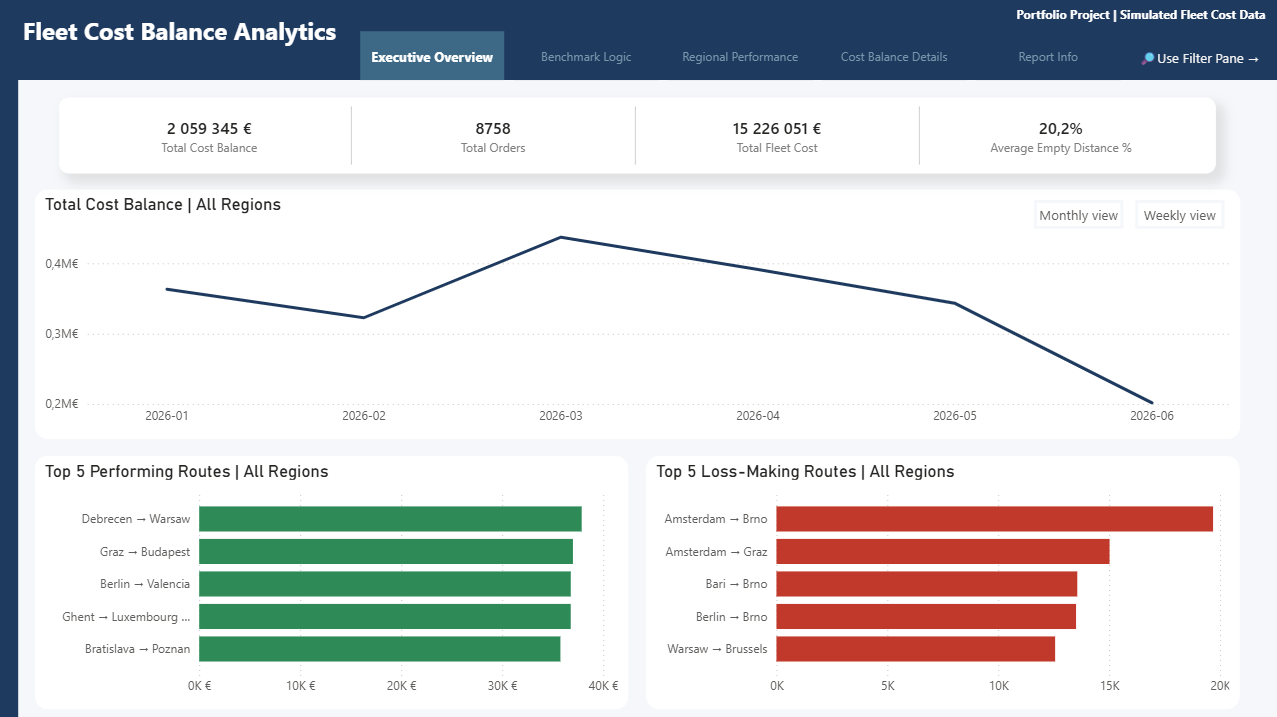

The dashboard page shown, as its layout file describes it:
{"tool":"powerbi","page":{"name":"Executive Overview","canvas":[1280,720],"ordinal":0},"visuals":[{"type":"shape","box":[0,0,1280.3,80],"z":0},{"type":"textbox","box":[19.2,10,332.1,67.2],"z":1000},{"type":"lineChart","fields":{"Category":["dim_calendar.Year Month"],"Y":["_measures.Total Cost Balance"]},"box":[34.4,189.4,1207.6,251.1],"z":2000},{"type":"clusteredBarChart","fields":{"Y":["_measures.Total Cost Balance"],"Category":["dim_route.lane_city"]},"box":[34.4,455.6,595,255.2],"z":3000},{"type":"clusteredBarChart","fields":{"Y":["_measures.Total Negative Cost Balance"],"Category":["dim_route.lane_city"]},"box":[646.4,455.6,595.5,255.2],"z":4000},{"type":"textbox","box":[1012.7,0,267.6,39.8],"z":5000},{"type":"pageNavigator","box":[360.9,31,661.4,49.4],"z":6000},{"type":"cardVisual","fields":{"Data":["_measures.Total Cost Balance","_measures.Total Orders","_measures.Total DF Cost","_measures.Average Empty Distance %"]},"box":[87.1,100,1157.1,75.7],"z":7000},{"type":"actionButton","box":[1034.4,200,89.3,29],"z":9000},{"type":"actionButton","box":[1135.7,200,89.3,29],"z":10000}]}

Visuals, with their boxes in screenshot pixels (x1, y1, x2, y2), scaled from the page's 1280x720 canvas onto the 1277x717 screenshot:
shape: [left=0, top=0, right=1276, bottom=80]
textbox: [left=19, top=10, right=350, bottom=77]
lineChart - dim_calendar.Year Month x _measures.Total Cost Balance: [left=34, top=189, right=1239, bottom=439]
clusteredBarChart - _measures.Total Cost Balance x dim_route.lane_city: [left=34, top=454, right=628, bottom=708]
clusteredBarChart - _measures.Total Negative Cost Balance x dim_route.lane_city: [left=645, top=454, right=1239, bottom=708]
textbox: [left=1010, top=0, right=1276, bottom=40]
pageNavigator: [left=360, top=31, right=1020, bottom=80]
cardVisual - _measures.Total Cost Balance x _measures.Total Orders: [left=87, top=100, right=1241, bottom=175]
actionButton: [left=1032, top=199, right=1121, bottom=228]
actionButton: [left=1133, top=199, right=1222, bottom=228]
